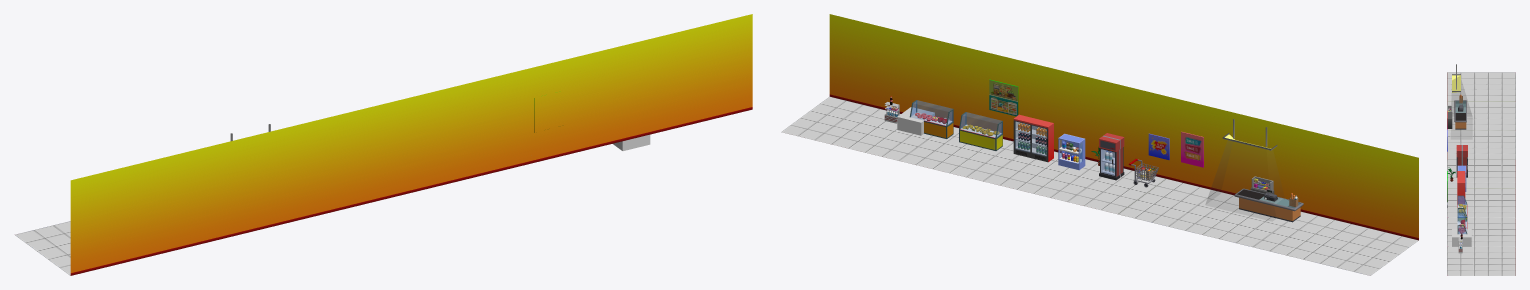
The picture shows the model from 3 angles, left to right: view 1: azimuth 30°, elevation 25°; view 2: azimuth 150°, elevation 25°; view 3: azimuth 270°, elevation 25°; orthographic projection. The views are drawn at different scales.
Parts seen in each view (by area): view 1: Plane; view 2: Plane, cash_register, big_fridge, showcase_cheese, showcase_meat, fridge, stillage1, lamp, Cube, cart; view 3: Plane, cash_register, lamp, Cube, fridge, big_fridge, showcase_cheese, showcase_meat, stillage1, stillage.
Part boxes in pixels (bbox=[...]): Plane: bbox=[14, 14, 752, 275]; Plane: bbox=[781, 14, 1418, 275]; cash_register: bbox=[1234, 176, 1303, 222]; big_fridge: bbox=[1013, 114, 1053, 162]; showcase_cheese: bbox=[959, 112, 1002, 150]; showcase_meat: bbox=[909, 100, 953, 138]; fridge: bbox=[1099, 133, 1124, 180]; stillage1: bbox=[1058, 133, 1085, 170]; lamp: bbox=[1206, 119, 1277, 203]; Cube: bbox=[897, 107, 934, 135]; cart: bbox=[1128, 158, 1158, 187]; Plane: bbox=[1447, 72, 1515, 275]; cash_register: bbox=[1447, 100, 1466, 129]; lamp: bbox=[1452, 64, 1471, 116]; Cube: bbox=[1452, 229, 1471, 246]; fridge: bbox=[1456, 145, 1467, 177]; big_fridge: bbox=[1457, 171, 1465, 207]; showcase_cheese: bbox=[1457, 195, 1467, 220]; showcase_meat: bbox=[1457, 212, 1467, 234]; stillage1: bbox=[1457, 165, 1466, 191]; stillage: bbox=[1458, 237, 1462, 253].
Size of the model in its own units: 4933 by 757 by 705.
